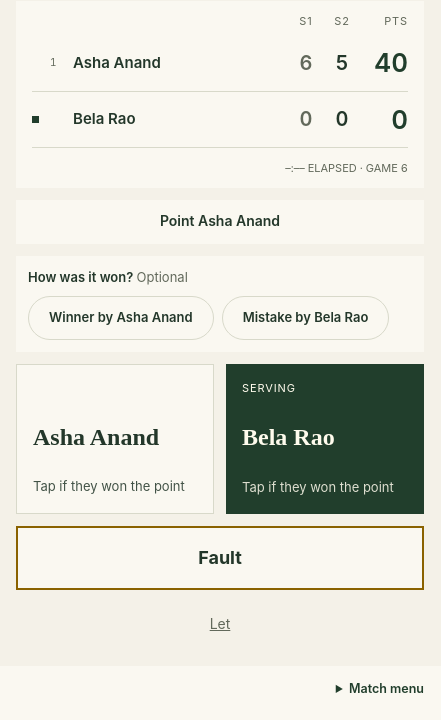
Test: Scorer › holds the match point for confirmation before saving it
(page scrolled)
Click the button with aria-label "Point — Asha Anand".
click(115, 439)  # box [16,364,214,514]
(page scrolled)
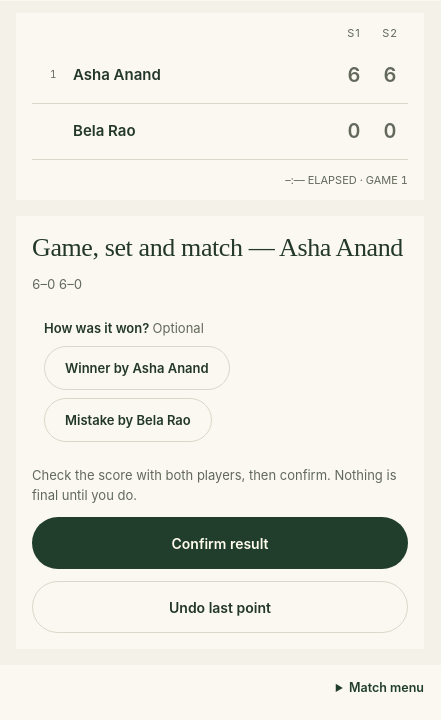
expect the heading "Game, set and match — Asha Anand" is shown: met, box [32,232,408,263]
Click the button "Winner by Asha Anand".
click(137, 368)  # box [44,346,230,390]
(page scrolled)
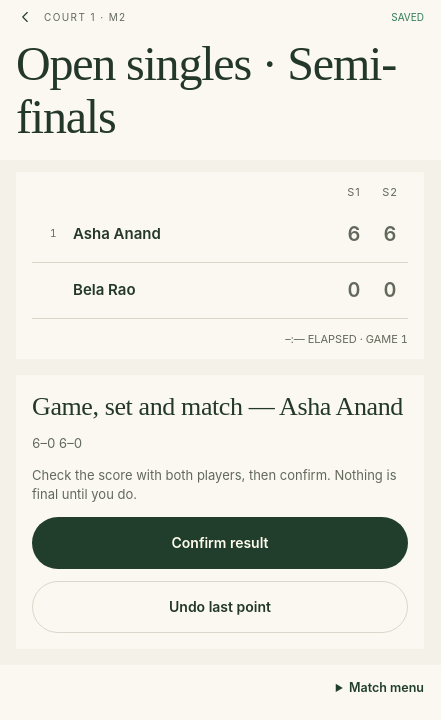
Click the button "Confirm result".
click(220, 543)  # box [32,517,408,569]
(page scrolled)
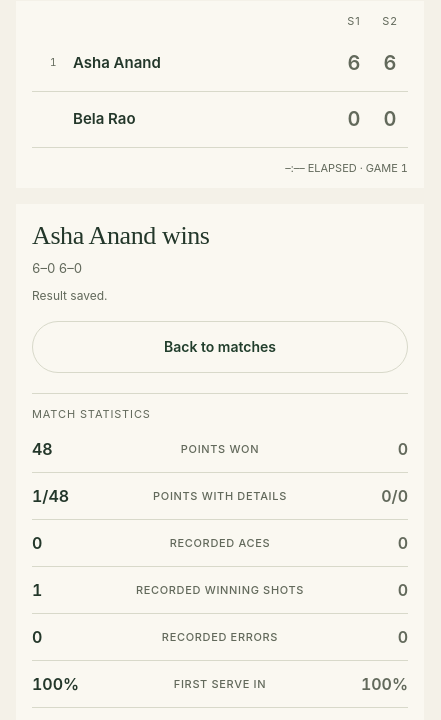
expect the heading "Asha Anand wins" is shown: met, box [32,221,210,250]
expect the row "48 Points won 0" is shown: met, box [32,426,408,473]
expect the row "1 Recorded winning shots 0" is shown: met, box [32,567,408,614]
